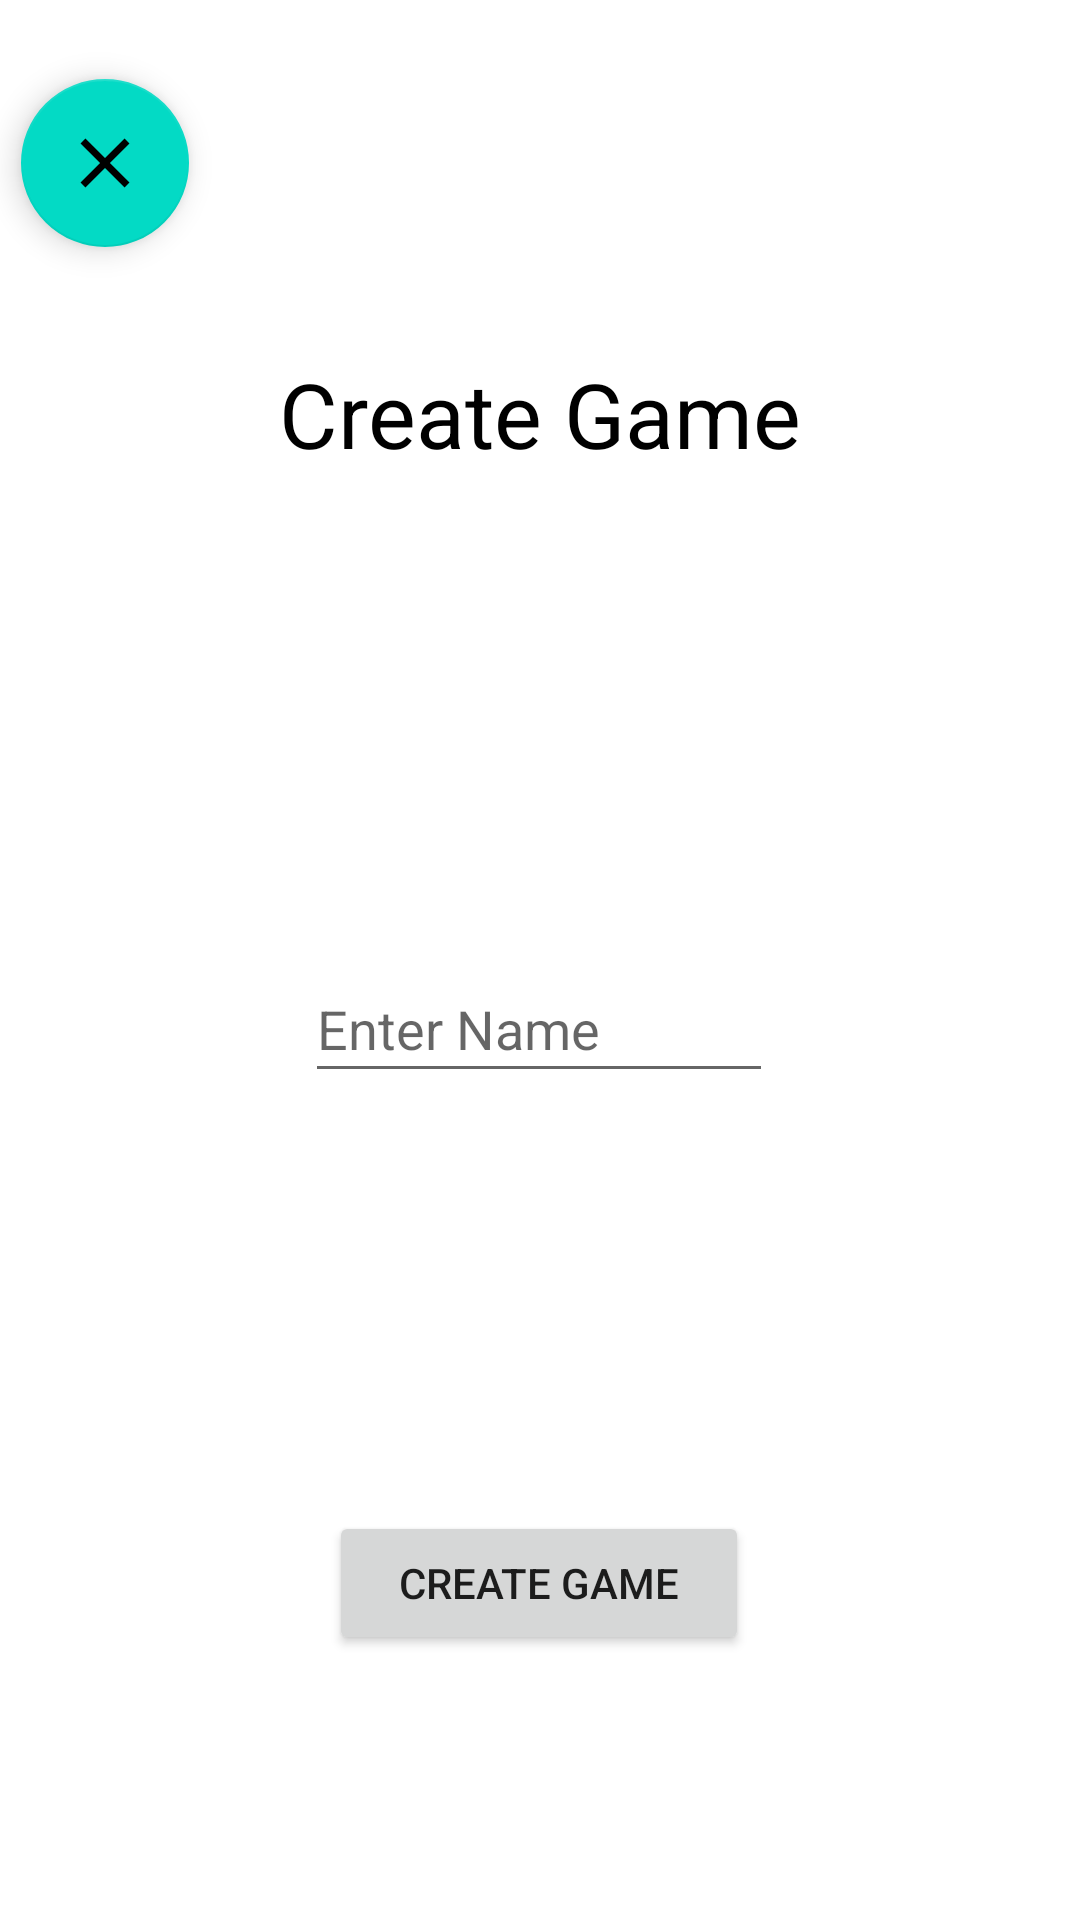

Locate icon controls on the screen. Image size 1080w x 1920h, boxes as Rect(x1, y1, x2, y2).
close: Rect(21, 79, 189, 247)
